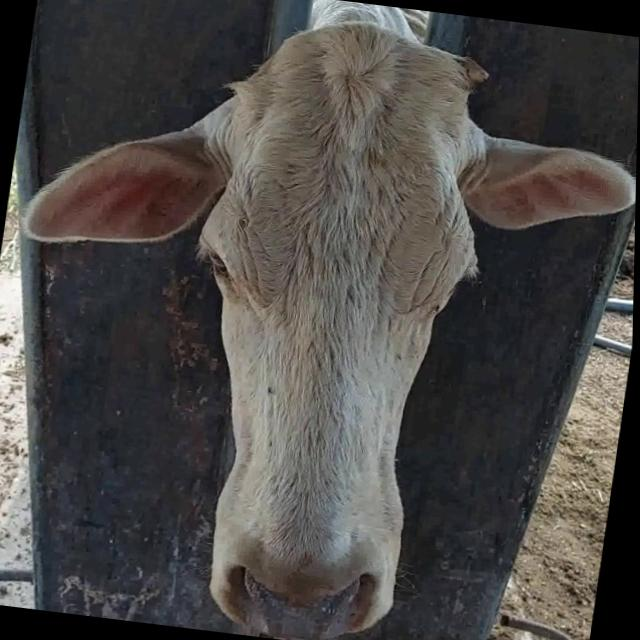cowFace: (145, 9, 507, 640)
